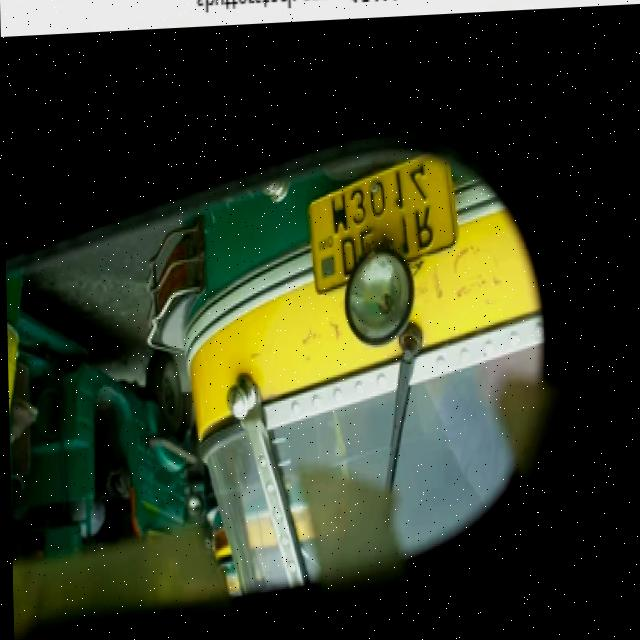plate: (300, 147, 462, 309)
